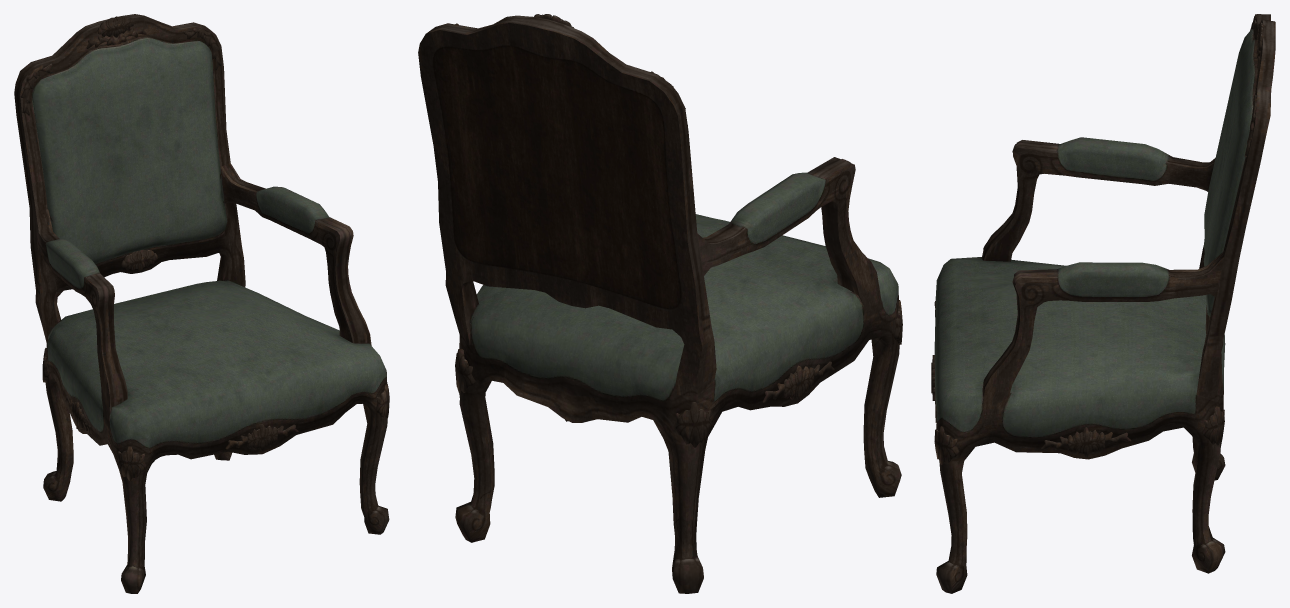
The model's file is green_chair_01_4k-v2.glb.
The picture shows the model from 3 angles, left to right: view 1: azimuth 30°, elevation 25°; view 2: azimuth 150°, elevation 25°; view 3: azimuth 270°, elevation 25°; orthographic projection. The views are drawn at different scales.
Visible parts, largest first — view 1: GreenChair_01; view 2: GreenChair_01; view 3: GreenChair_01.
Boxes of the visible parts, x1,y1,x2,y2 form: GreenChair_01: (14, 14, 389, 593); GreenChair_01: (418, 14, 902, 593); GreenChair_01: (931, 14, 1275, 593).
Size of the model in its own units: 0.6731 by 1.06 by 0.6644.
1 material, 1 textured.
